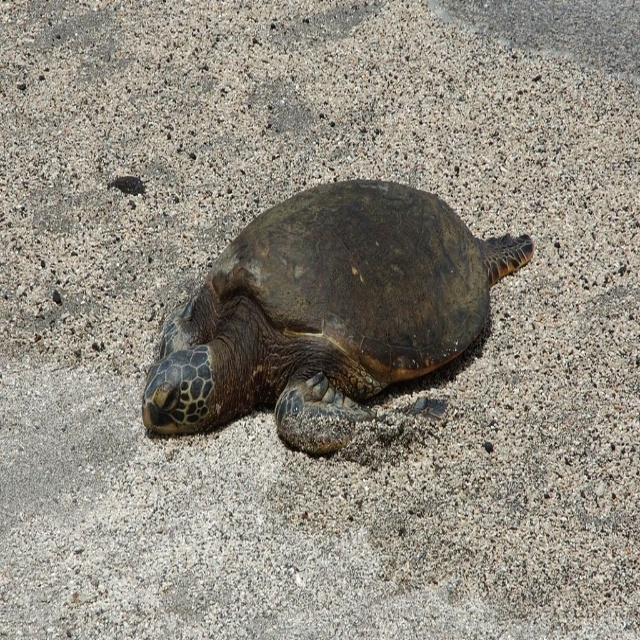Sea turtle: (142, 179, 534, 454)
